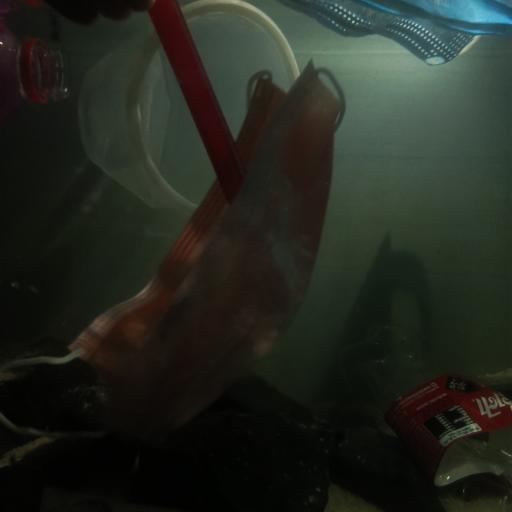mask: (2, 70, 341, 452), (281, 0, 512, 62)
plastic_bottle: (360, 329, 512, 512)
plastic_cup: (78, 0, 315, 213)
plastic_straw: (139, 0, 251, 212)
